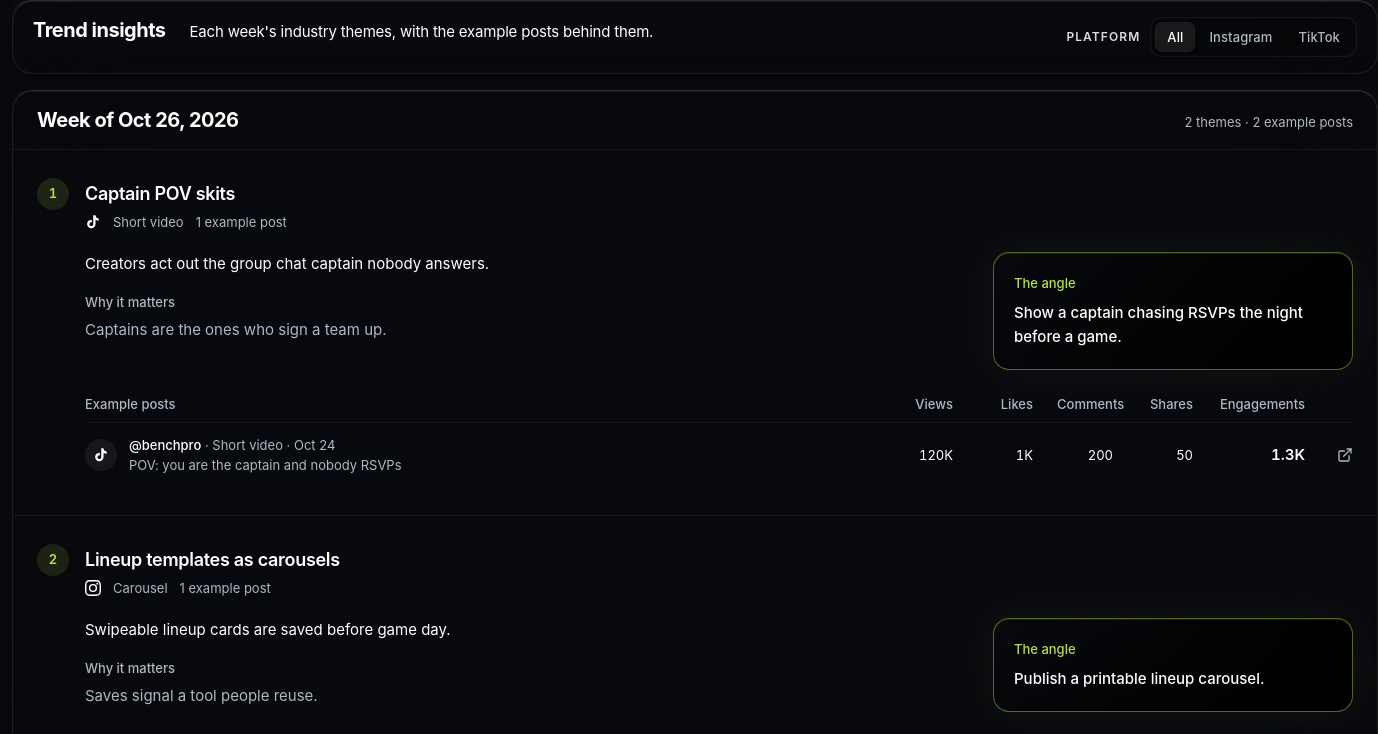
Test: TrendInsightsSection › filters by platform: only themes and posts on the chosen platform stay
This screenshot has width=1378, height=734.
Expected: the heading "Captain POV skits" is shown, [85,178,235,206]
Click the button "TikTok" at {"x": 1319, "y": 37}, box [1286,22,1352,52]
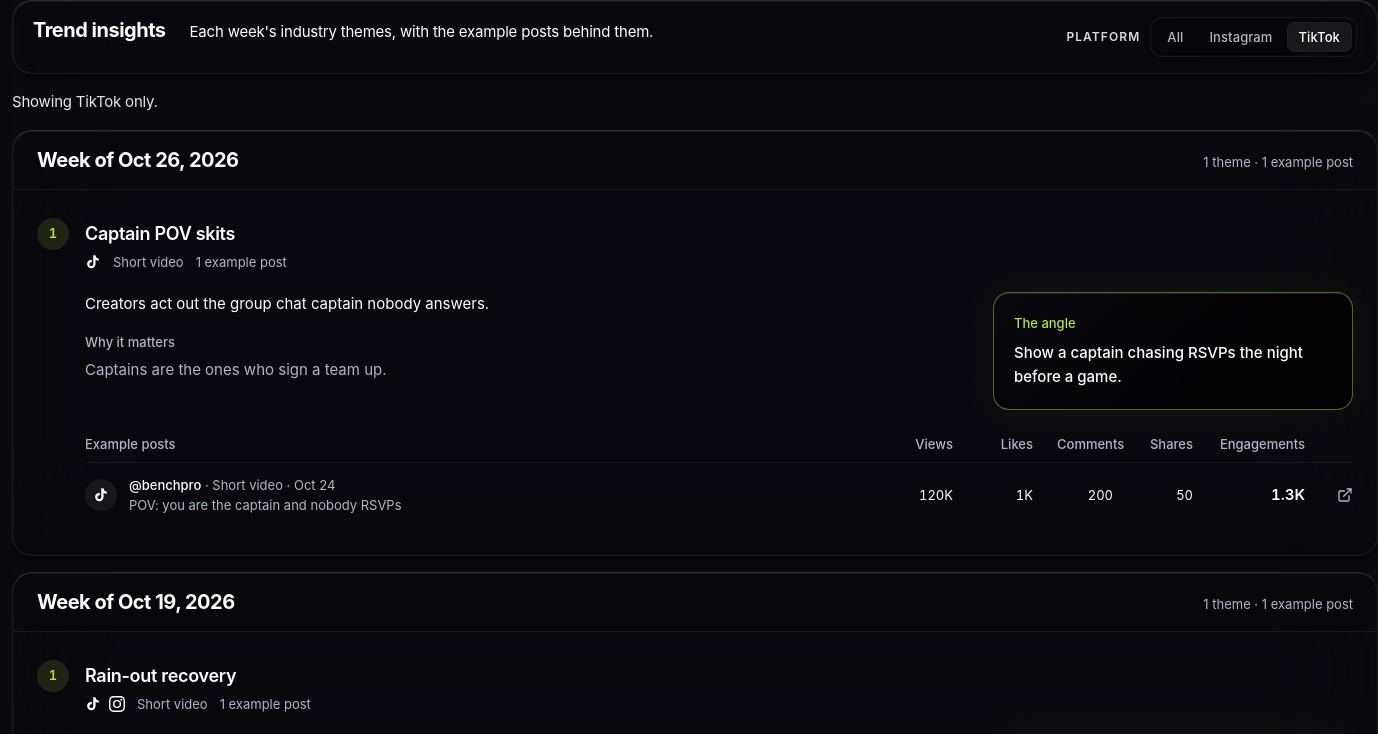
Expected: the heading "Captain POV skits" is shown, [85,218,235,246]
Expected: the heading "Lineup templates as carousels" is gone
Click the button "Instagram" at {"x": 1241, "y": 37}, box [1197,22,1284,52]
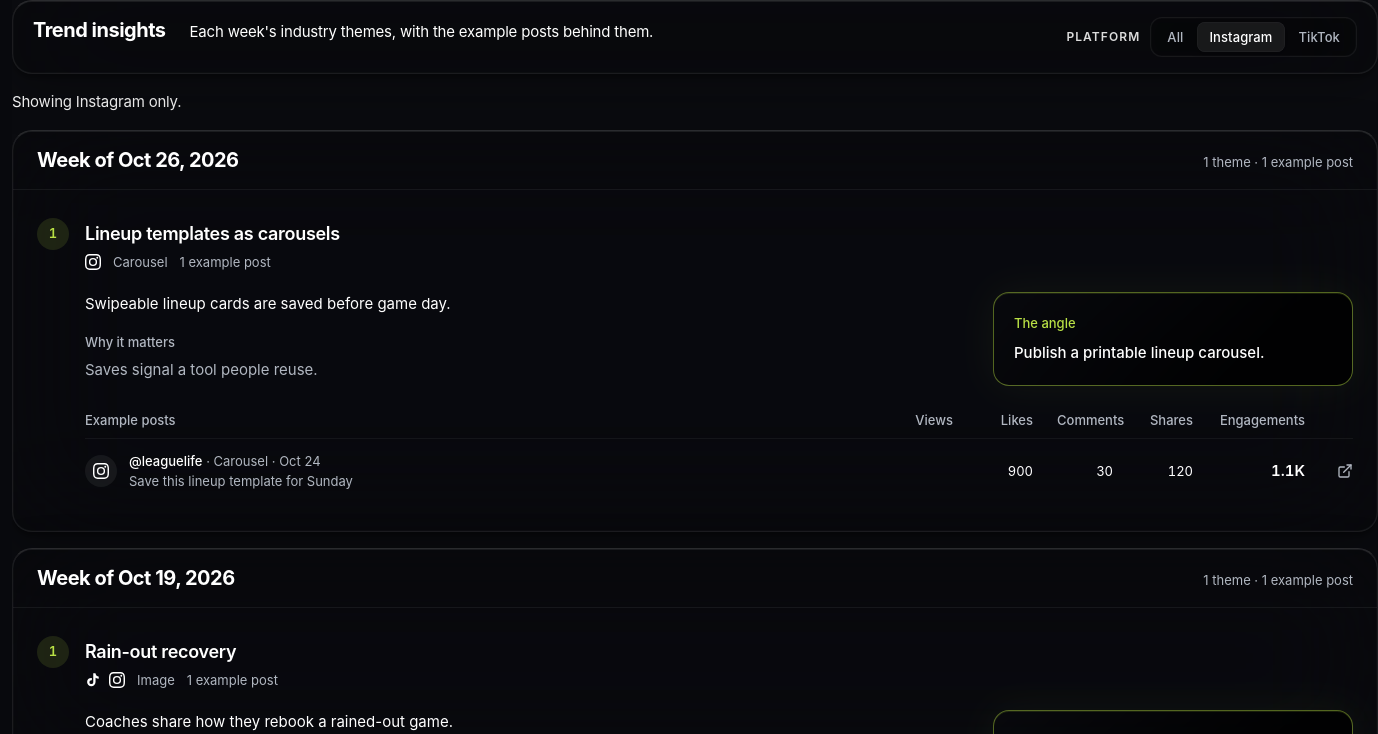
Expected: the heading "Captain POV skits" is gone
Expected: the heading "Lineup templates as carousels" is shown, [85,218,340,246]
Click the button "All" at {"x": 1175, "y": 37}, box [1155,22,1195,52]
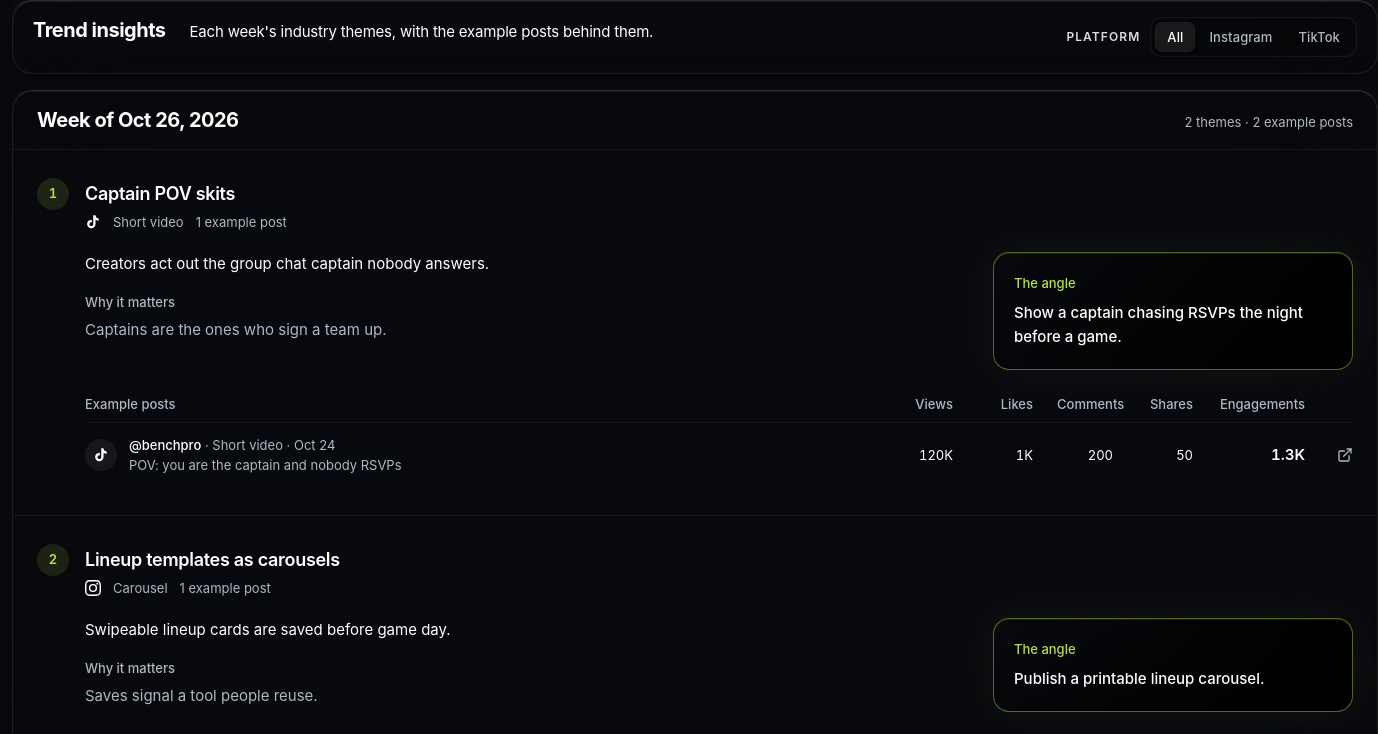
Expected: the heading "Lineup templates as carousels" is shown, [85,544,340,572]
Expected: the heading "Captain POV skits" is shown, [85,178,235,206]
